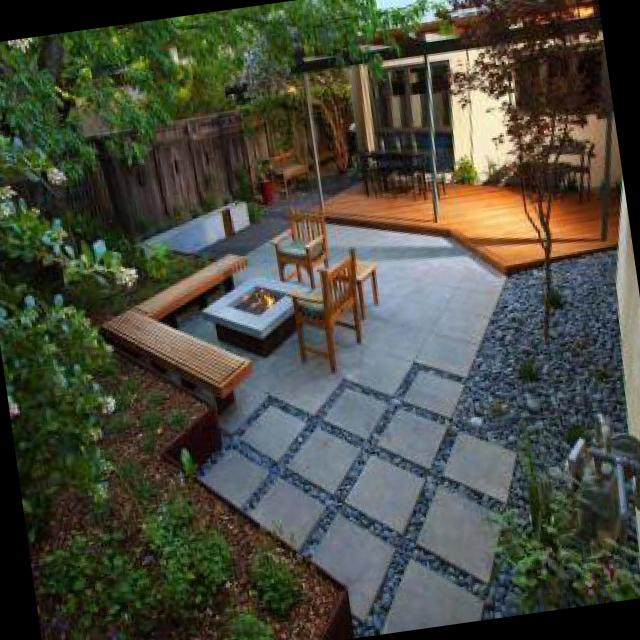Fire: (237, 280, 280, 319)
